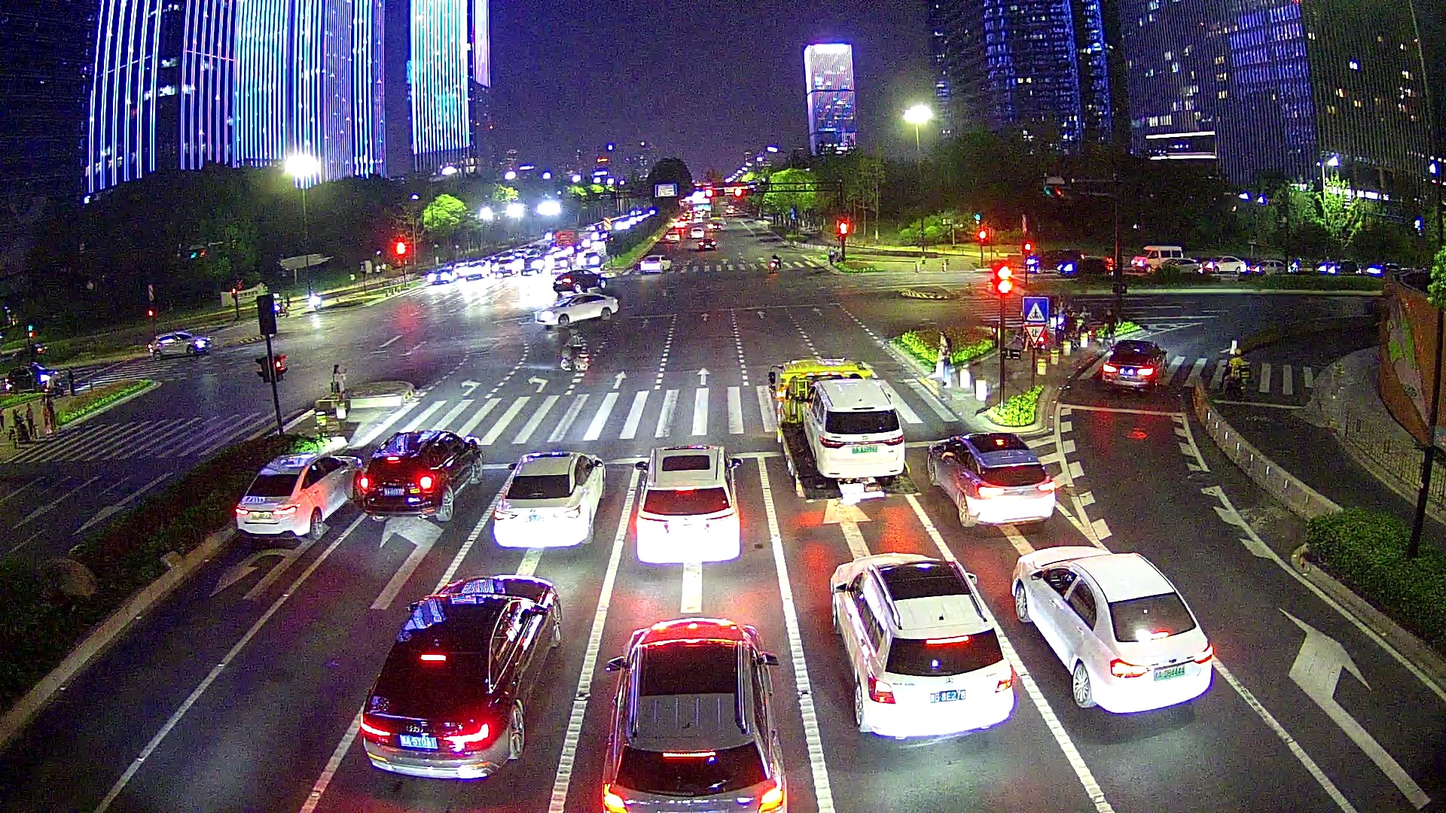person: (328, 362, 346, 398)
vehicle: (355, 571, 567, 784), (594, 607, 788, 813), (825, 548, 1015, 749), (1008, 544, 1219, 719), (765, 354, 922, 504), (920, 418, 1061, 532), (633, 440, 746, 572), (353, 425, 485, 522), (487, 447, 608, 552), (798, 377, 912, 485), (227, 450, 362, 541), (1099, 334, 1169, 397), (532, 291, 621, 330)
